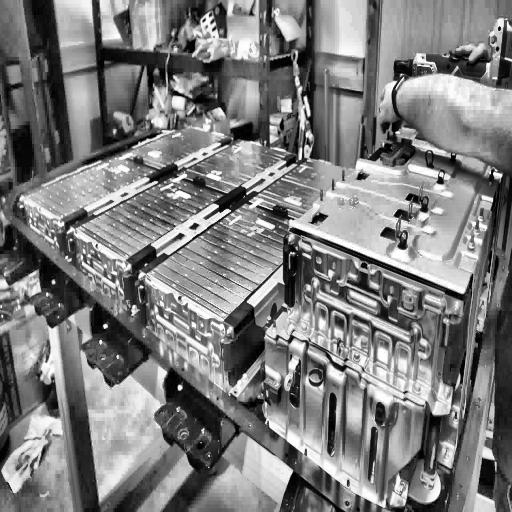battery_module: (147, 200, 311, 322), (78, 174, 227, 260), (25, 154, 160, 220), (251, 157, 360, 225), (176, 138, 291, 195), (123, 126, 229, 172)
